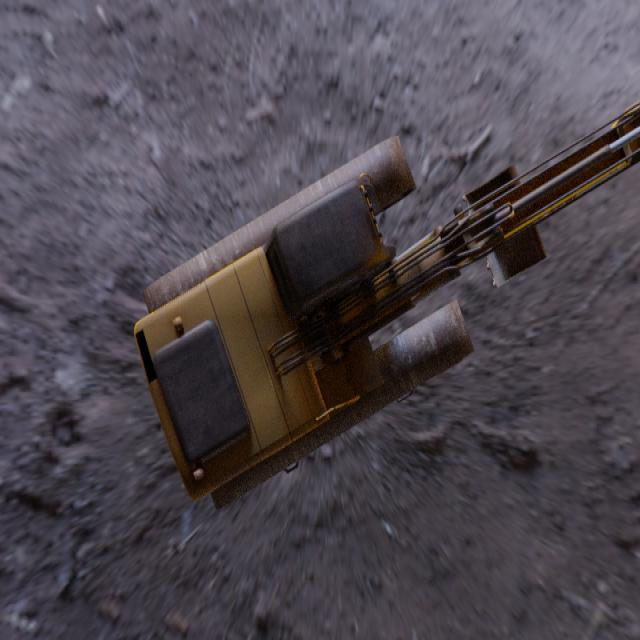excavator: (133, 98, 640, 510)
